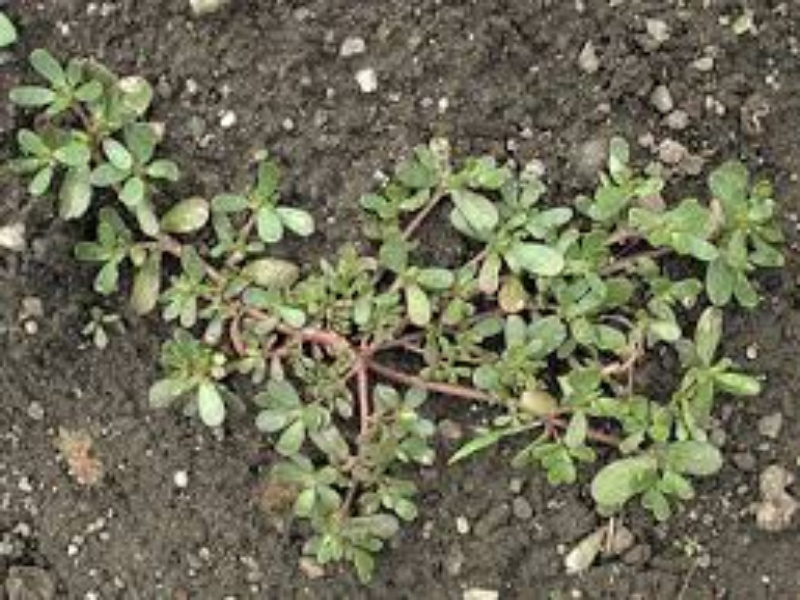weed: (271, 265, 444, 429), (292, 365, 432, 559), (565, 386, 711, 524), (660, 168, 779, 306), (162, 220, 268, 336), (53, 147, 172, 235), (663, 315, 762, 420), (460, 194, 560, 285), (159, 344, 248, 435), (478, 304, 562, 400), (22, 57, 118, 137), (218, 166, 312, 243)
